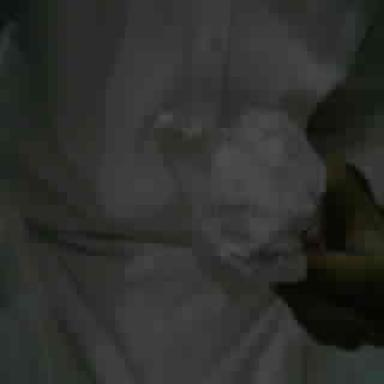paper: (155, 107, 324, 282)
